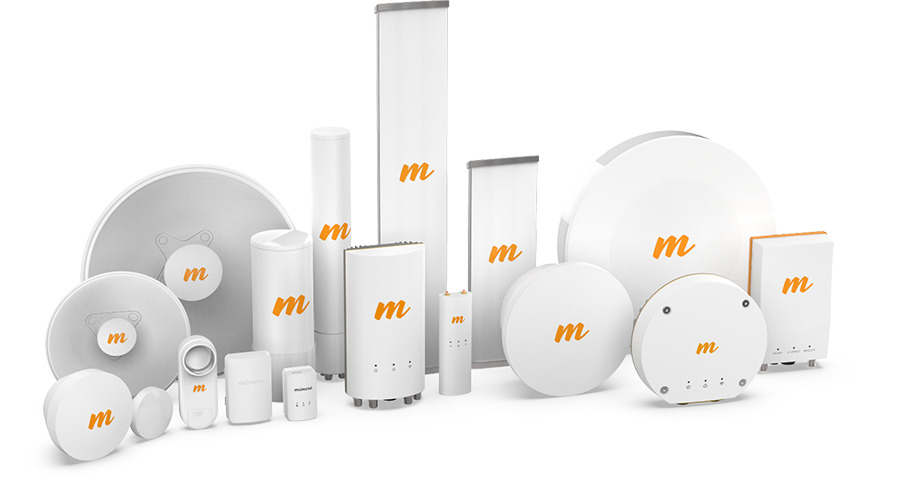ba: (496, 262, 633, 404), (639, 272, 768, 408), (47, 370, 134, 459), (125, 388, 176, 446)
sa: (372, 2, 460, 253), (333, 239, 433, 404), (436, 287, 476, 401)
